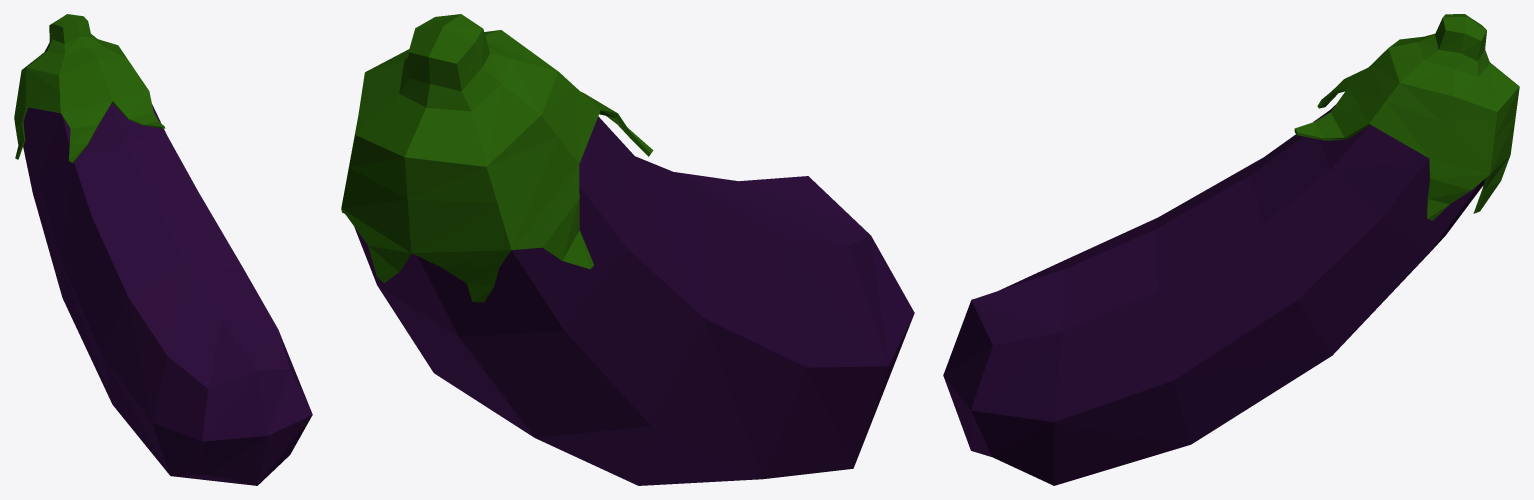
Rendered from eggplant.obj.
The picture shows the model from 3 angles, left to right: view 1: azimuth 30°, elevation 25°; view 2: azimuth 150°, elevation 25°; view 3: azimuth 270°, elevation 25°; orthographic projection. The views are drawn at different scales.
Size of the model in its own units: 1.13 by 2.46 by 2.8.
